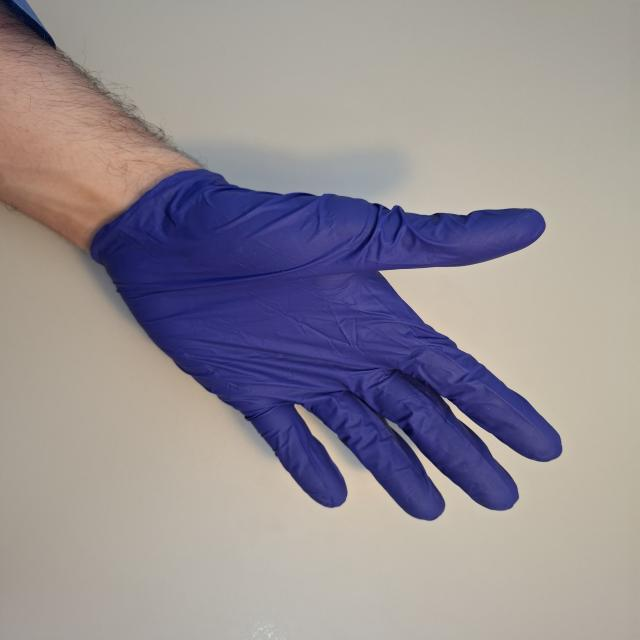glove_on: (86, 164, 568, 527)
